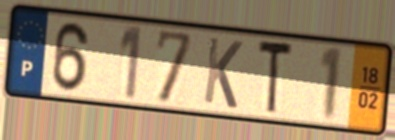1: (115, 22, 144, 103), (317, 44, 345, 124)
6: (51, 19, 92, 95)
7: (155, 27, 195, 107)
K: (201, 34, 245, 112)
T: (256, 36, 295, 118)
